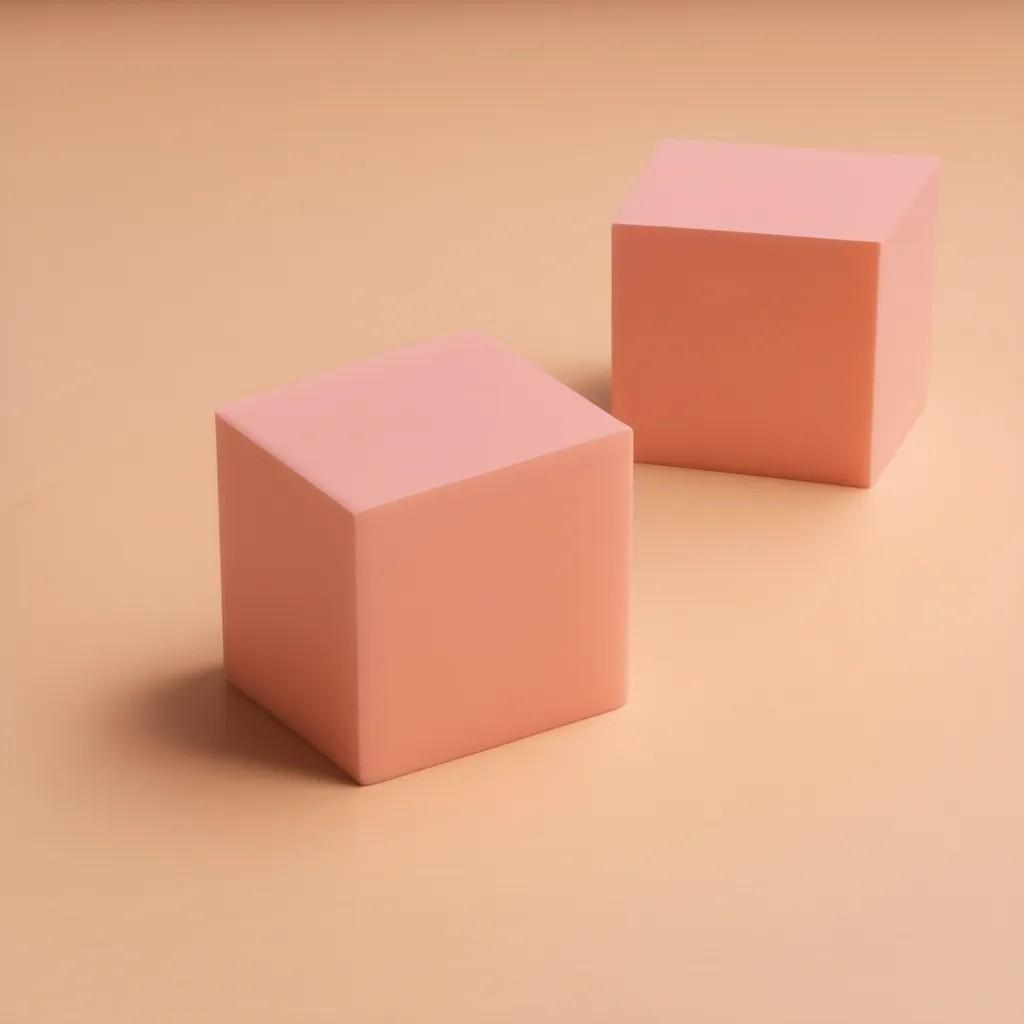cube: (212, 326, 635, 786), (608, 134, 941, 489)
